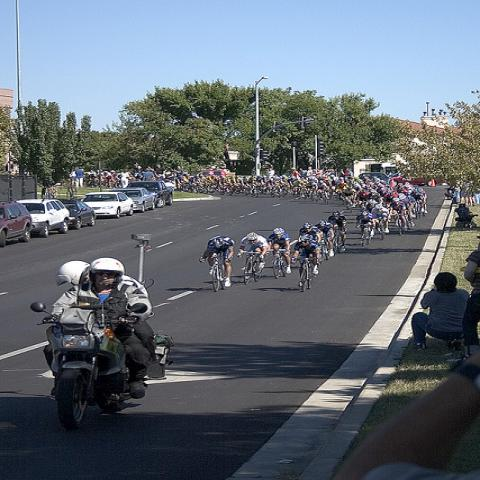car: (17, 198, 70, 238), (0, 202, 36, 246), (79, 192, 135, 218), (108, 186, 156, 214), (59, 198, 98, 229), (390, 174, 432, 186), (358, 172, 392, 180)
motorcycle: (29, 301, 150, 428)
truck: (127, 180, 174, 206)
